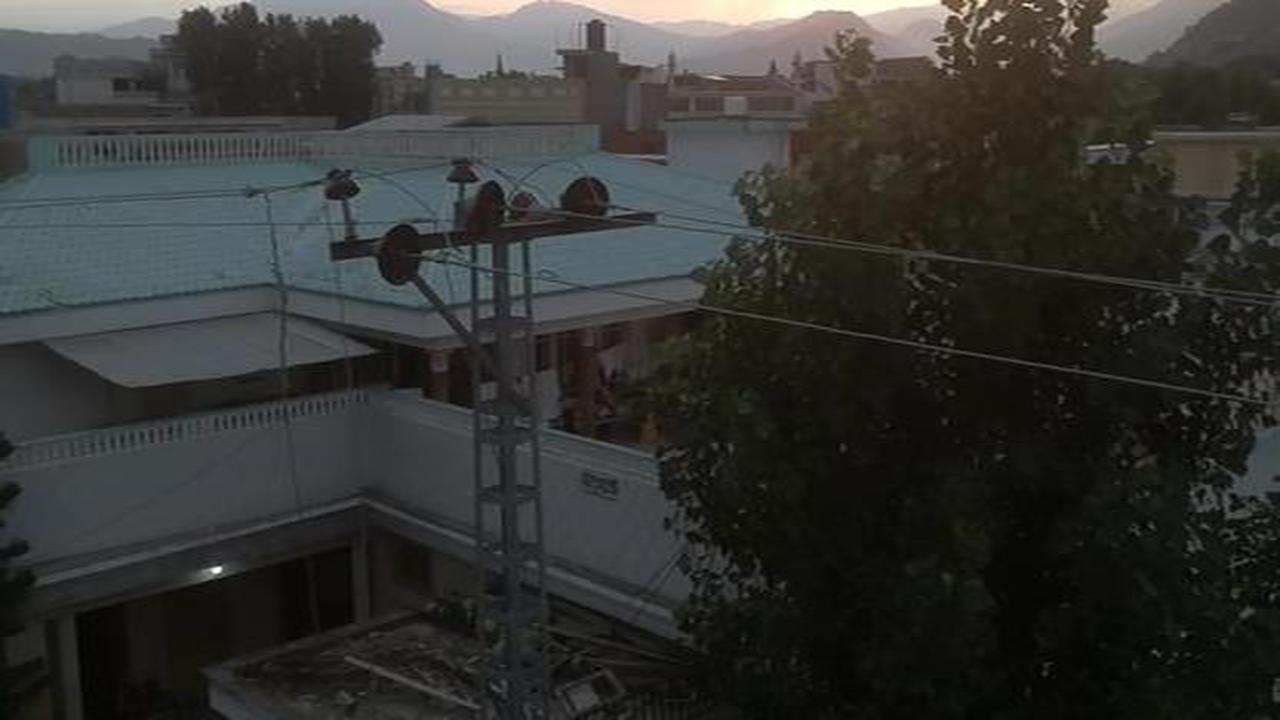insulator_disc: (375, 223, 425, 284), (564, 176, 611, 221), (471, 180, 505, 235)
insulator_pin: (318, 162, 362, 207), (447, 157, 479, 188)
